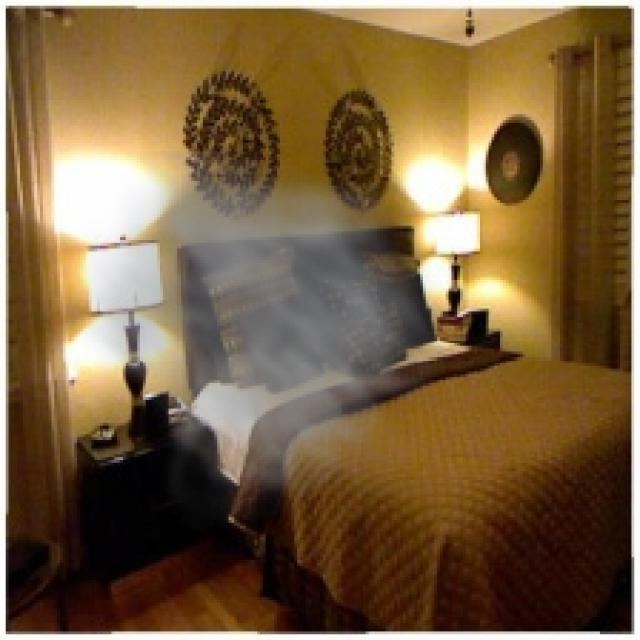smoke: (69, 152, 460, 534)
